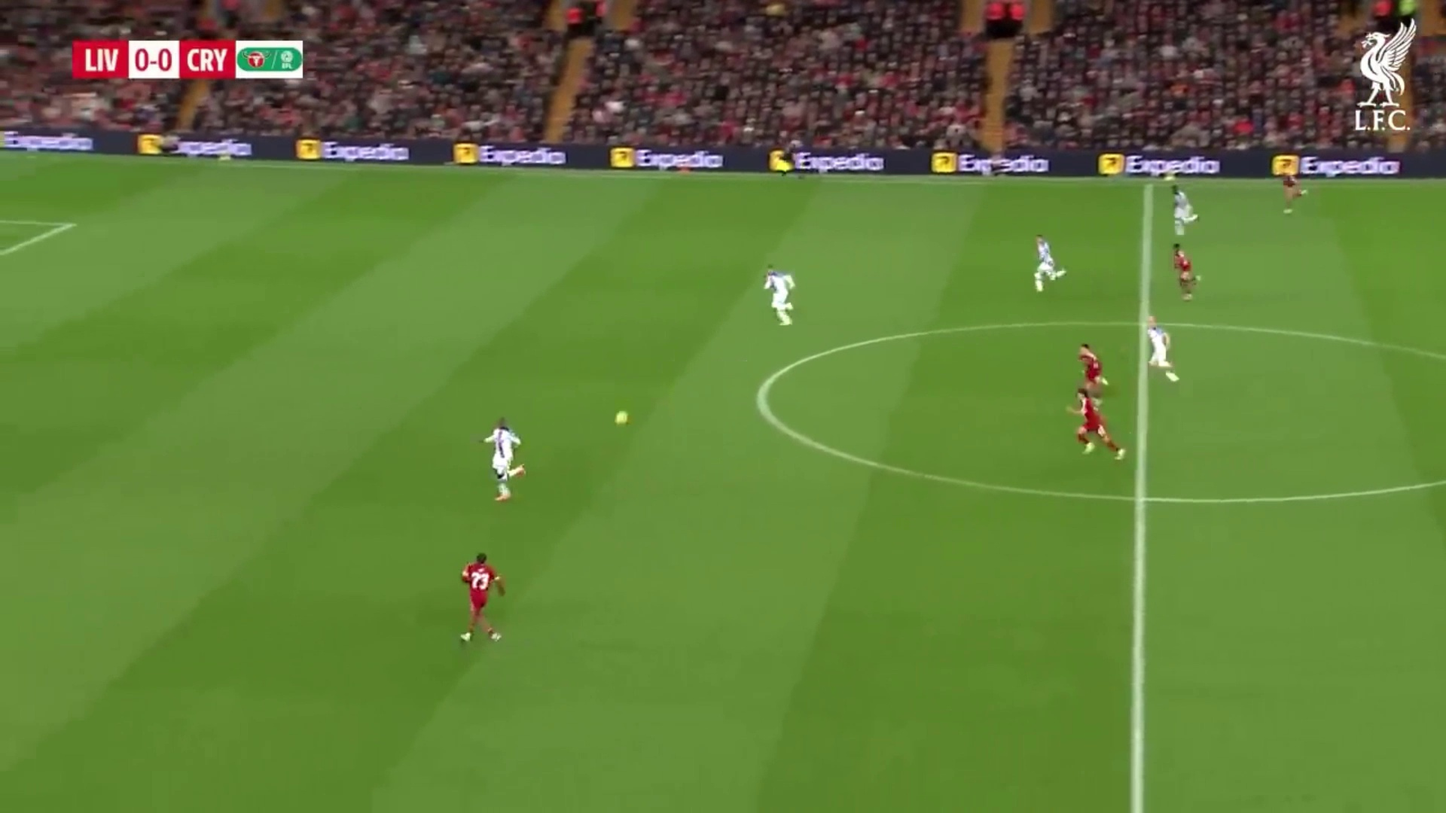player: (1073, 348, 1125, 458), (458, 551, 506, 644), (485, 418, 526, 504), (1074, 393, 1127, 458), (1140, 314, 1180, 383), (1077, 343, 1113, 414), (1033, 237, 1067, 292), (765, 270, 797, 328), (1275, 157, 1306, 212), (1171, 241, 1197, 301), (1172, 186, 1198, 230)
